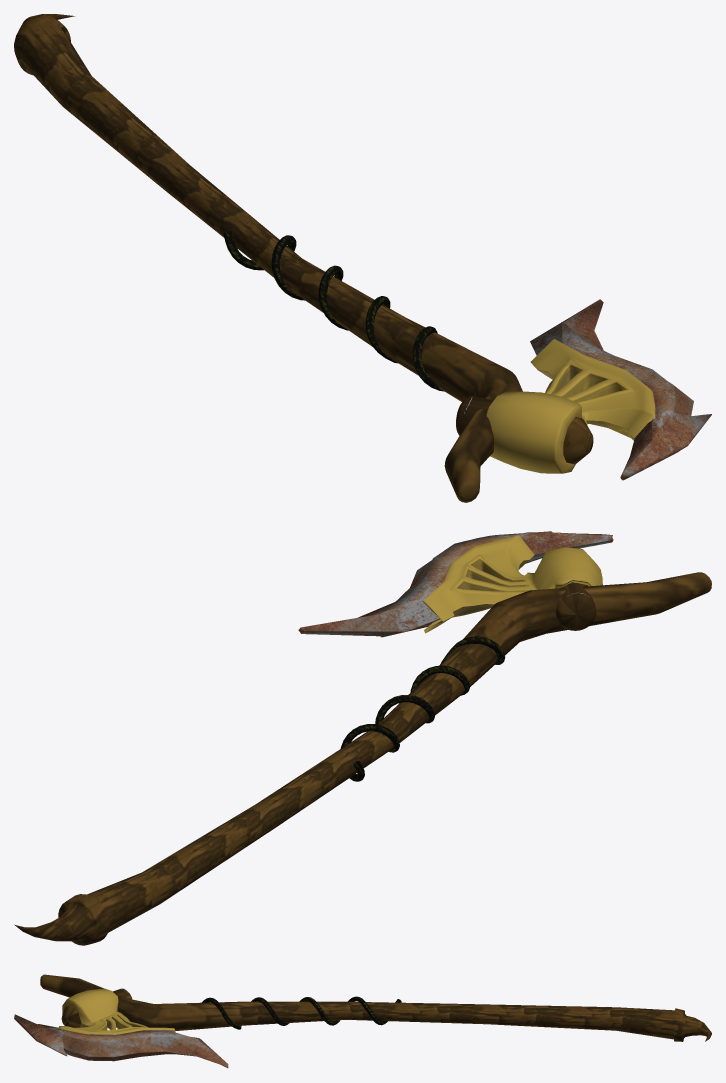
File: PCW_Shaman.fbx
3 renders of one model, top to bottom at view 1: azimuth 30°, elevation 25°; view 2: azimuth 150°, elevation 25°; view 3: azimuth 270°, elevation 25°, orthographic. The views are drawn at different scales.
Parts seen in each view (by area): view 1: Cylinder.008; view 2: Cylinder.008; view 3: Cylinder.008.
Boxes of the visible parts, <box> form: Cylinder.008: <box>14,14,711,502</box>; Cylinder.008: <box>14,531,711,945</box>; Cylinder.008: <box>14,974,711,1067</box>.
Size of the model in its own units: 0.3837 by 0.0819 by 1.33.
